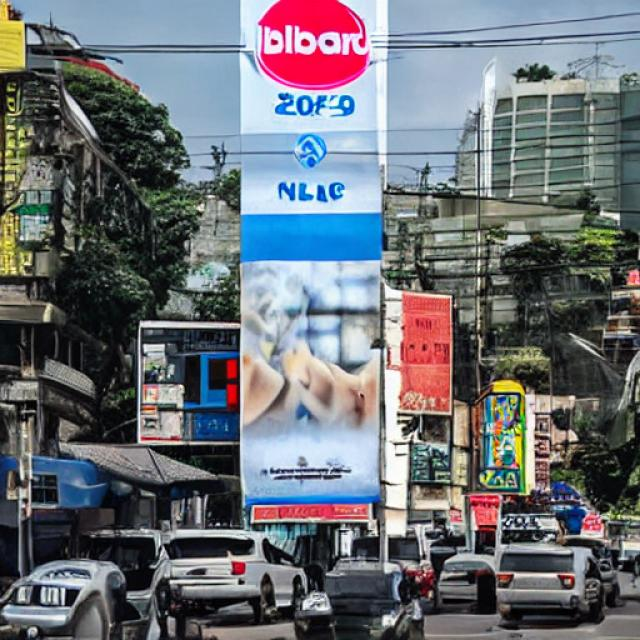Billboard: (238, 0, 385, 532)
